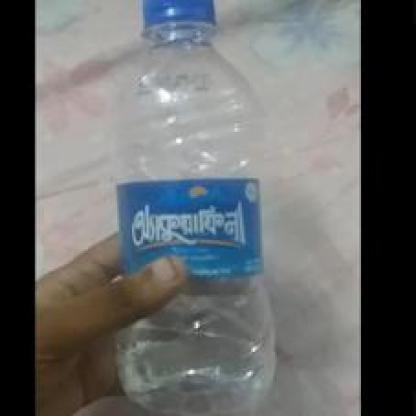bottle: (94, 0, 304, 414)
